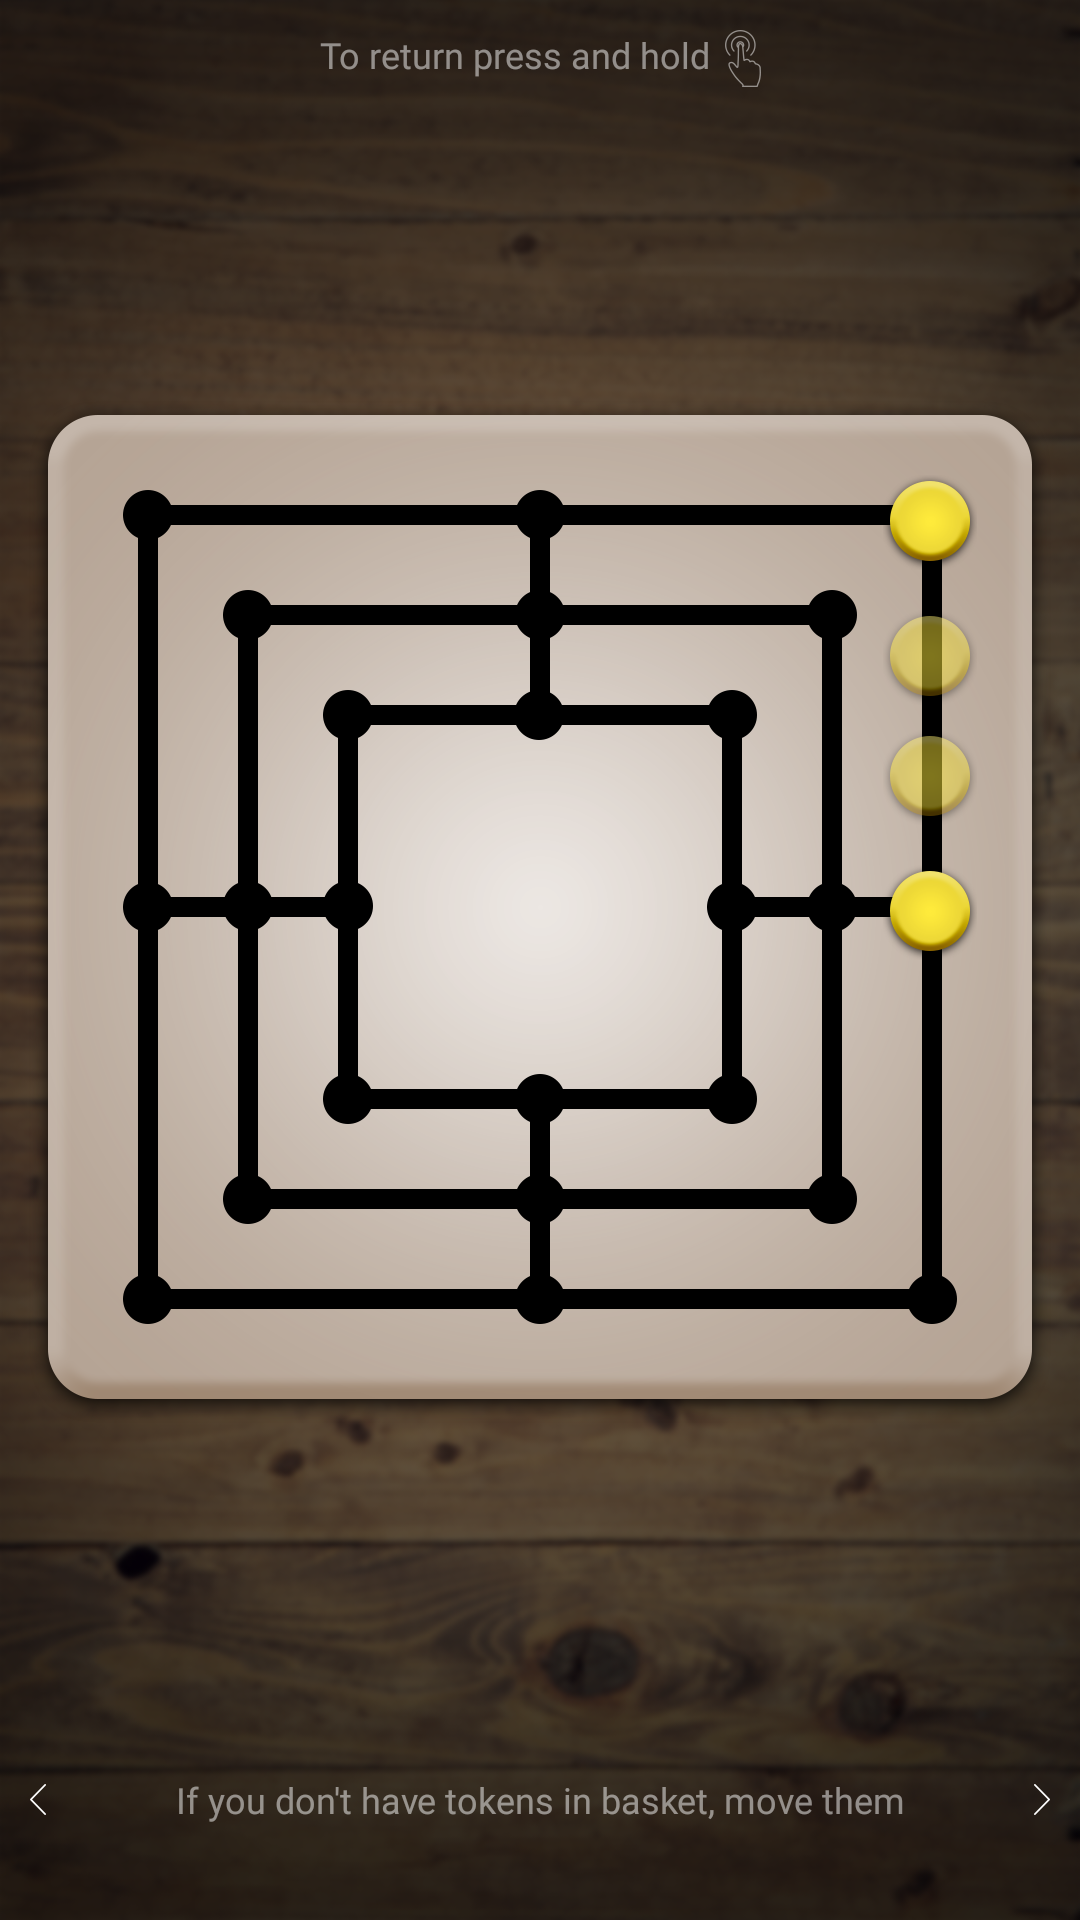

Screen size 1080x1920. Icon name, then its center in pixels as [x,y]:
touch: [743,58]
